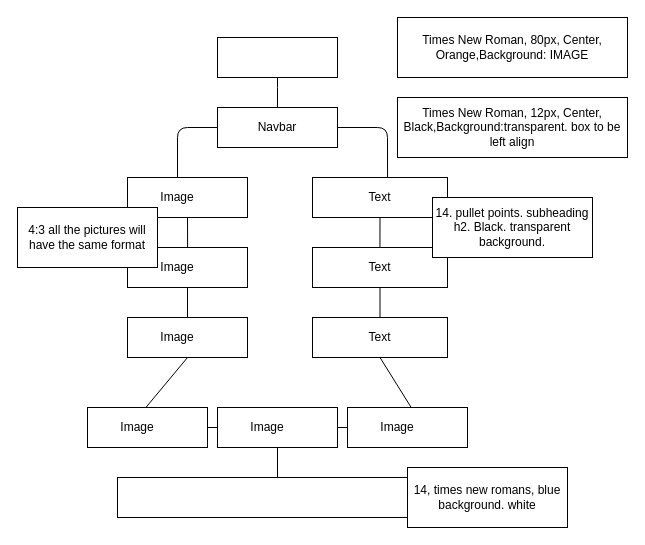
This 645x545 diagram has some shape labels left out. Here are the shapes that lost their labels. From the top down, the centre of each, then its label:
pixel 277 57: Heading
pixel 277 497: footer
